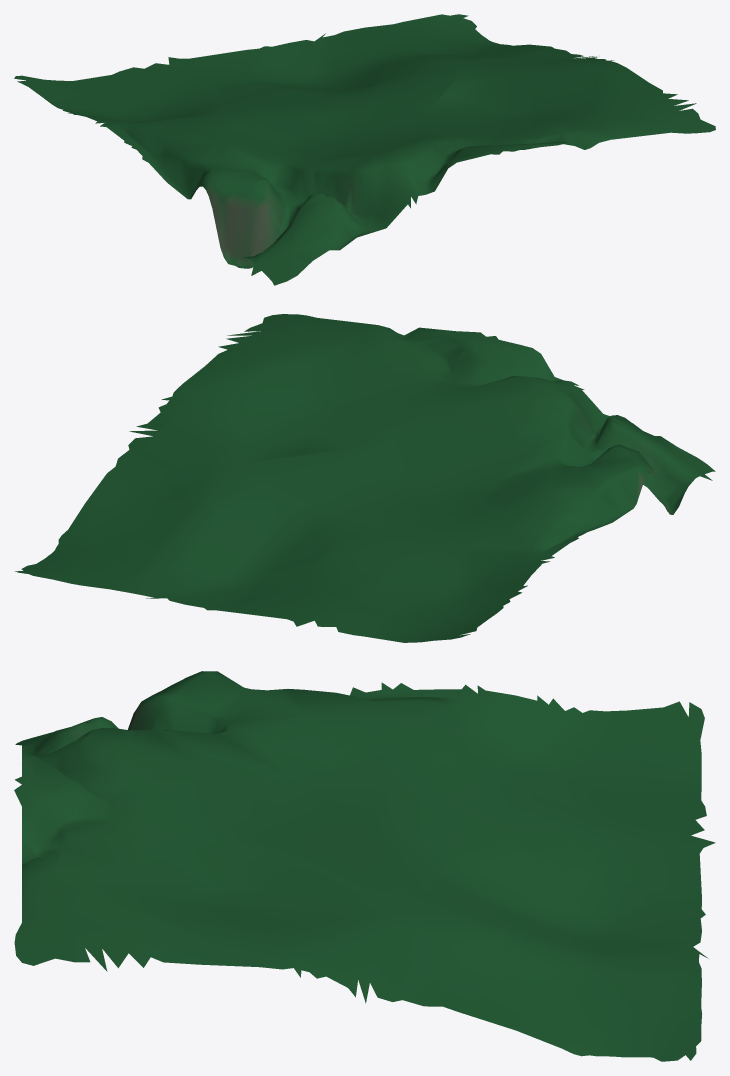
The model's file is payo_land_xm3_y3_lod2.glb.
3 renders of one model, top to bottom at view 1: azimuth 30°, elevation 25°; view 2: azimuth 150°, elevation 25°; view 3: azimuth 270°, elevation 25°, orthographic. The views are drawn at different scales.
Visible parts, largest first — view 1: payo_land_xm3_y3; view 2: payo_land_xm3_y3; view 3: payo_land_xm3_y3.
Boxes of the visible parts, box(x1,y1,x2,y2) form: payo_land_xm3_y3: box(14, 14, 715, 285); payo_land_xm3_y3: box(15, 314, 715, 642); payo_land_xm3_y3: box(14, 671, 715, 1061).
Bounding box in the file's own units: 268 × 57.29 × 263.
